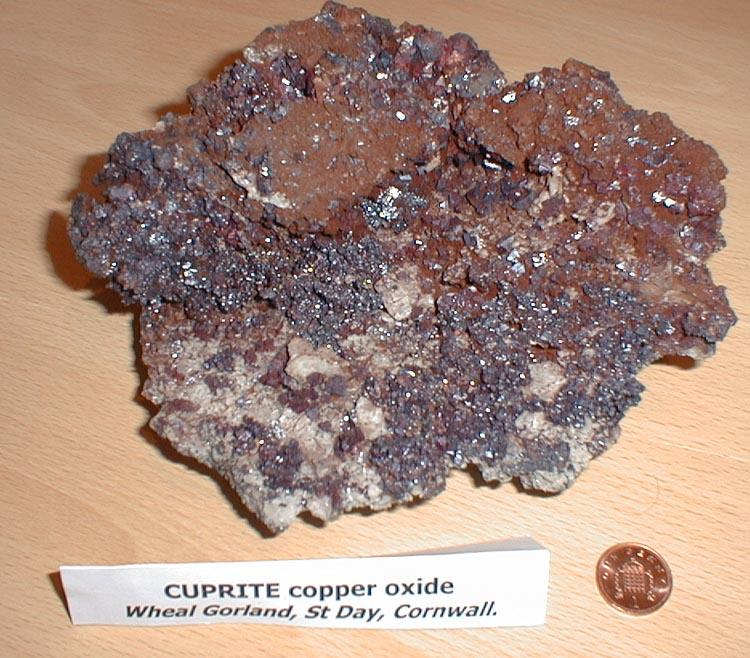cuprite: (70, 55, 737, 503), (346, 29, 507, 158), (258, 439, 329, 490)
